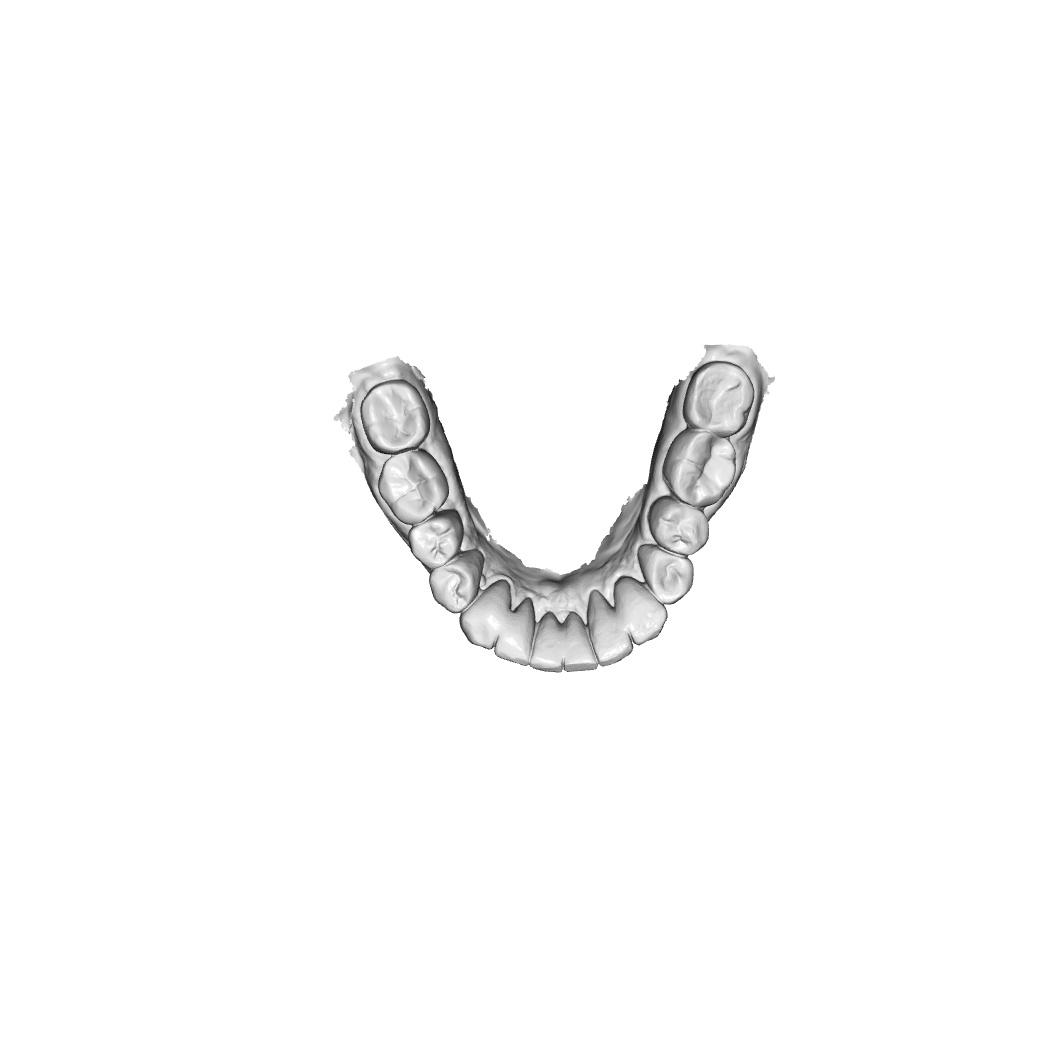canine: (612, 574, 668, 646), (458, 579, 512, 651)
incisor: (587, 598, 634, 667), (493, 596, 536, 667), (562, 612, 599, 673), (529, 611, 564, 675)
molar: (662, 427, 737, 508), (376, 447, 450, 526), (682, 360, 755, 438), (358, 378, 431, 456)
premolar: (647, 495, 710, 557), (429, 548, 486, 614), (637, 543, 695, 605), (407, 508, 464, 570)
